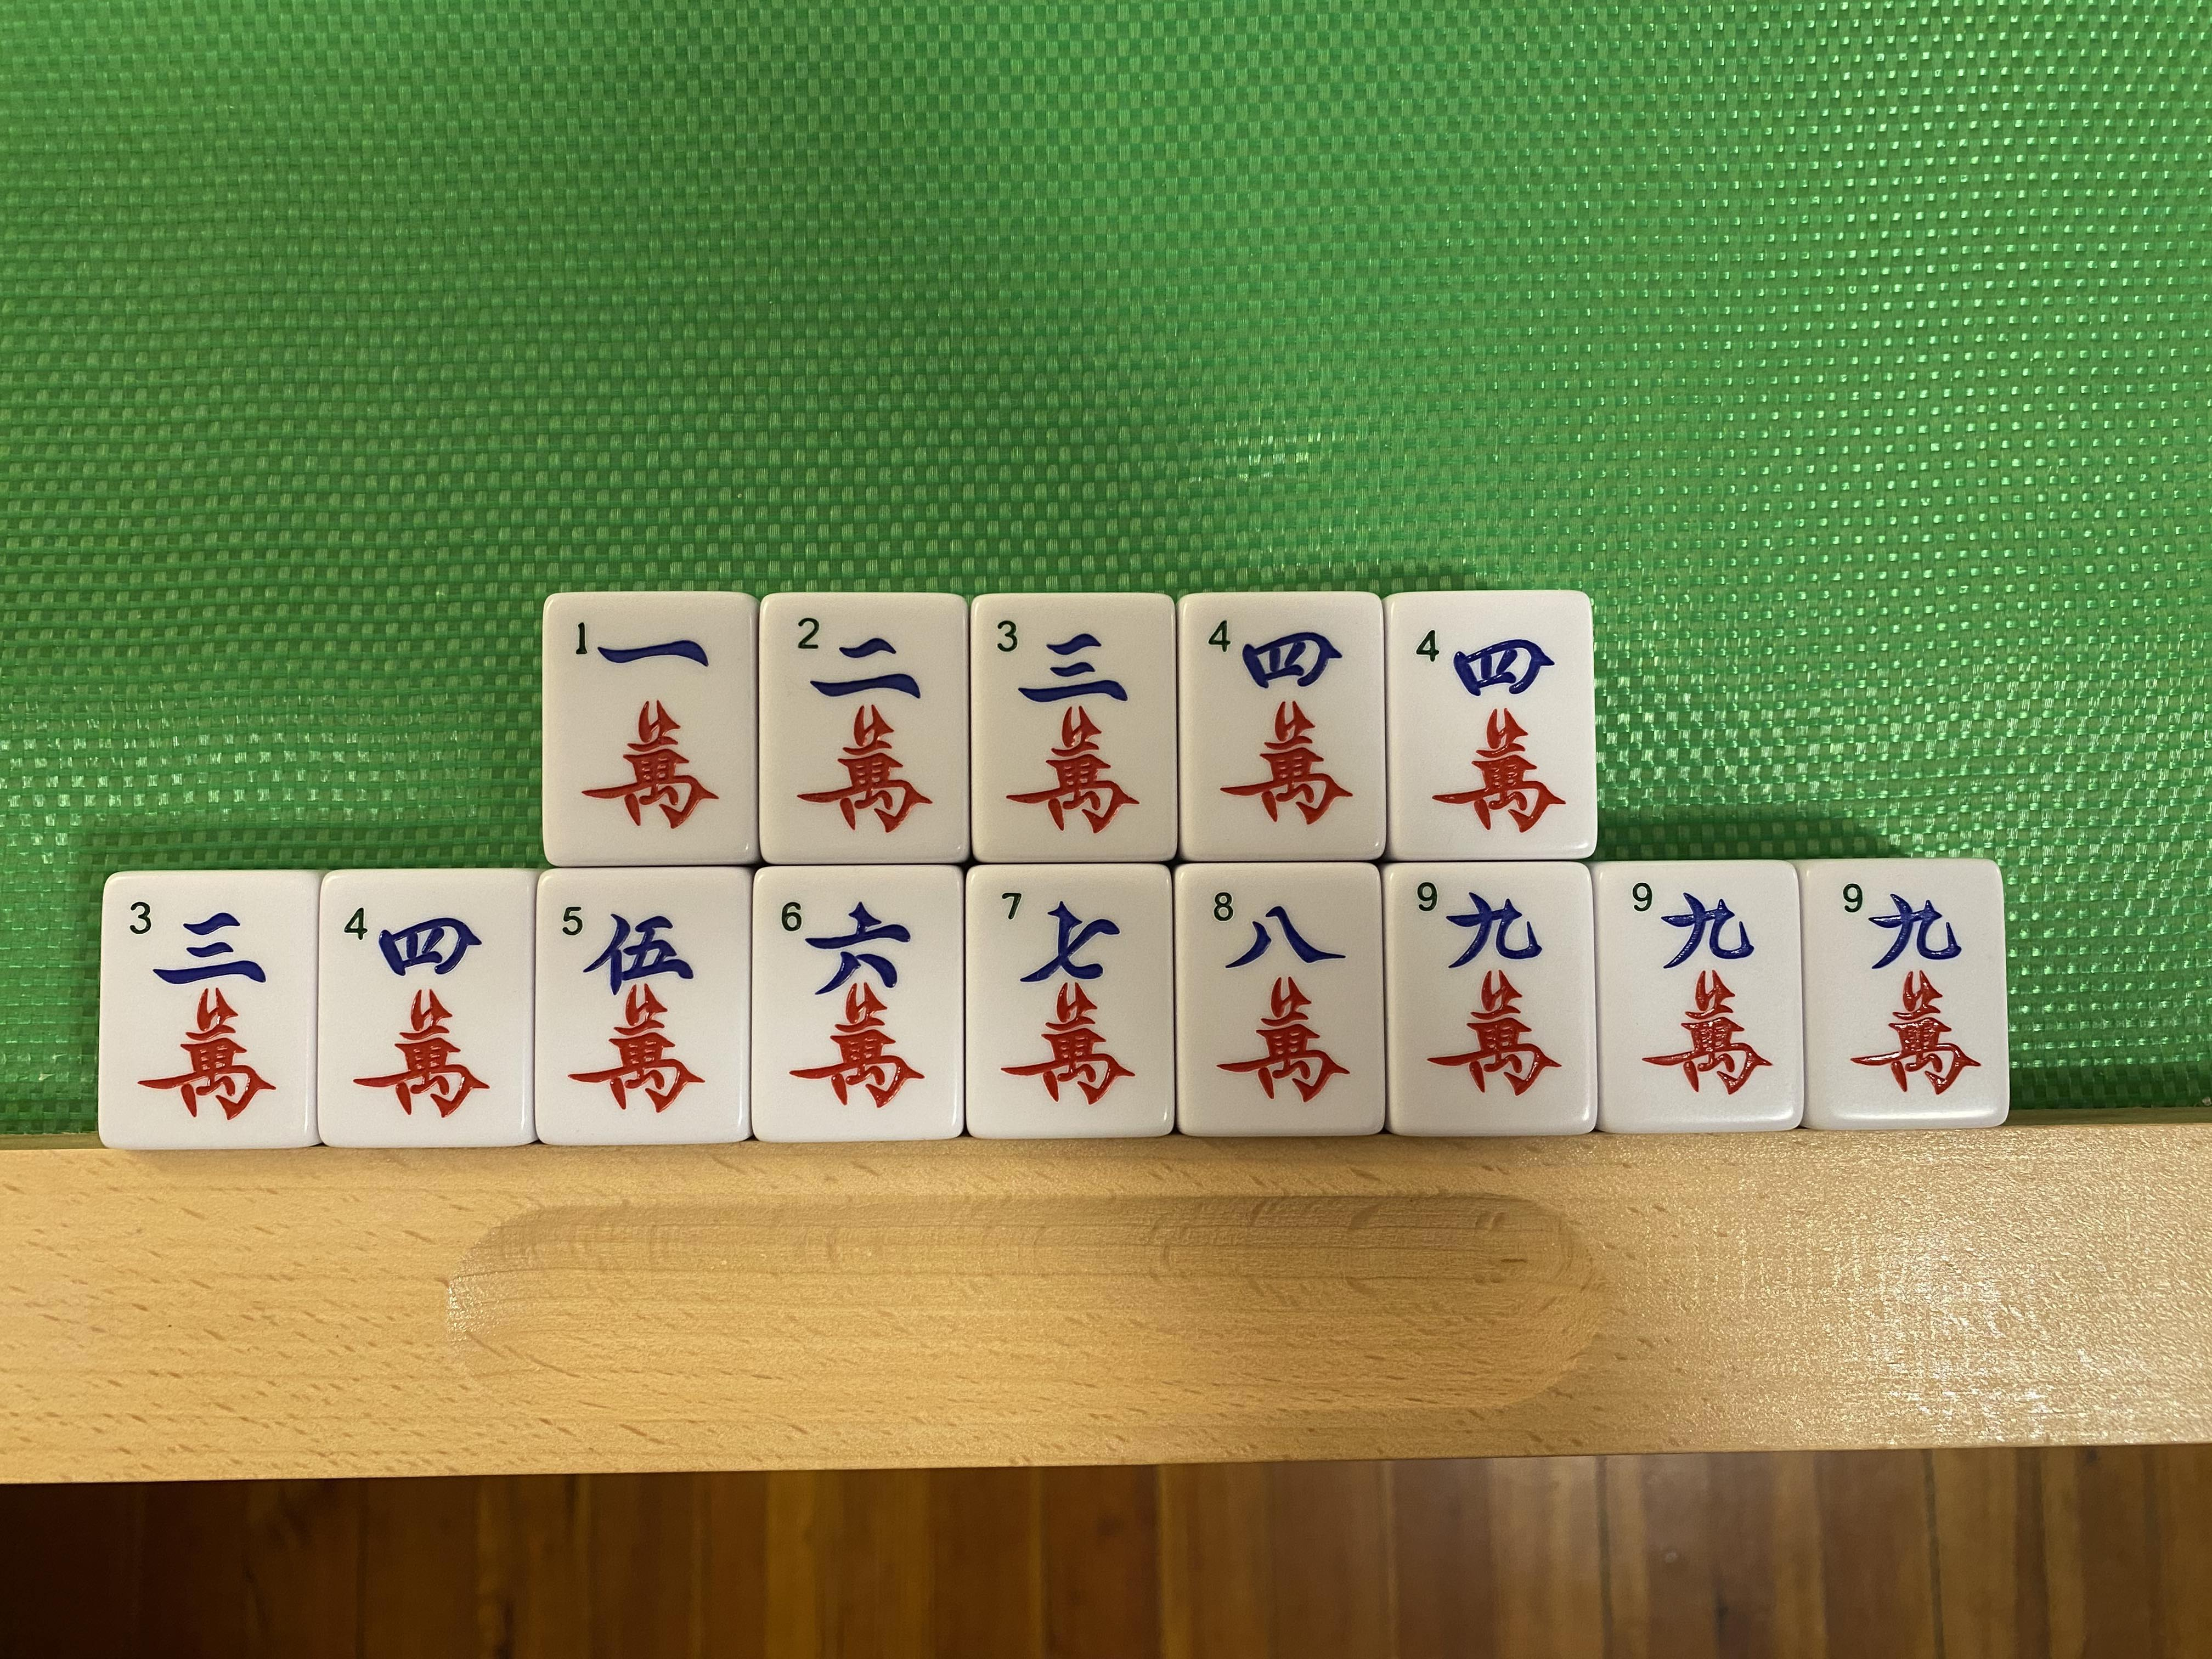character-eight: (1177, 863, 1385, 1138)
character-five: (538, 868, 749, 1140)
character-four: (324, 873, 531, 1141), (1388, 594, 1595, 857), (1181, 594, 1386, 857)
character-nine: (1388, 861, 1601, 1136), (1799, 863, 2006, 1124), (1601, 863, 1801, 1127)
character-one: (547, 592, 752, 863)
character-seven: (965, 863, 1174, 1134)
character-six: (756, 864, 963, 1136)
character-three: (968, 596, 1176, 861), (105, 875, 310, 1141)
character-two: (756, 596, 965, 859)
